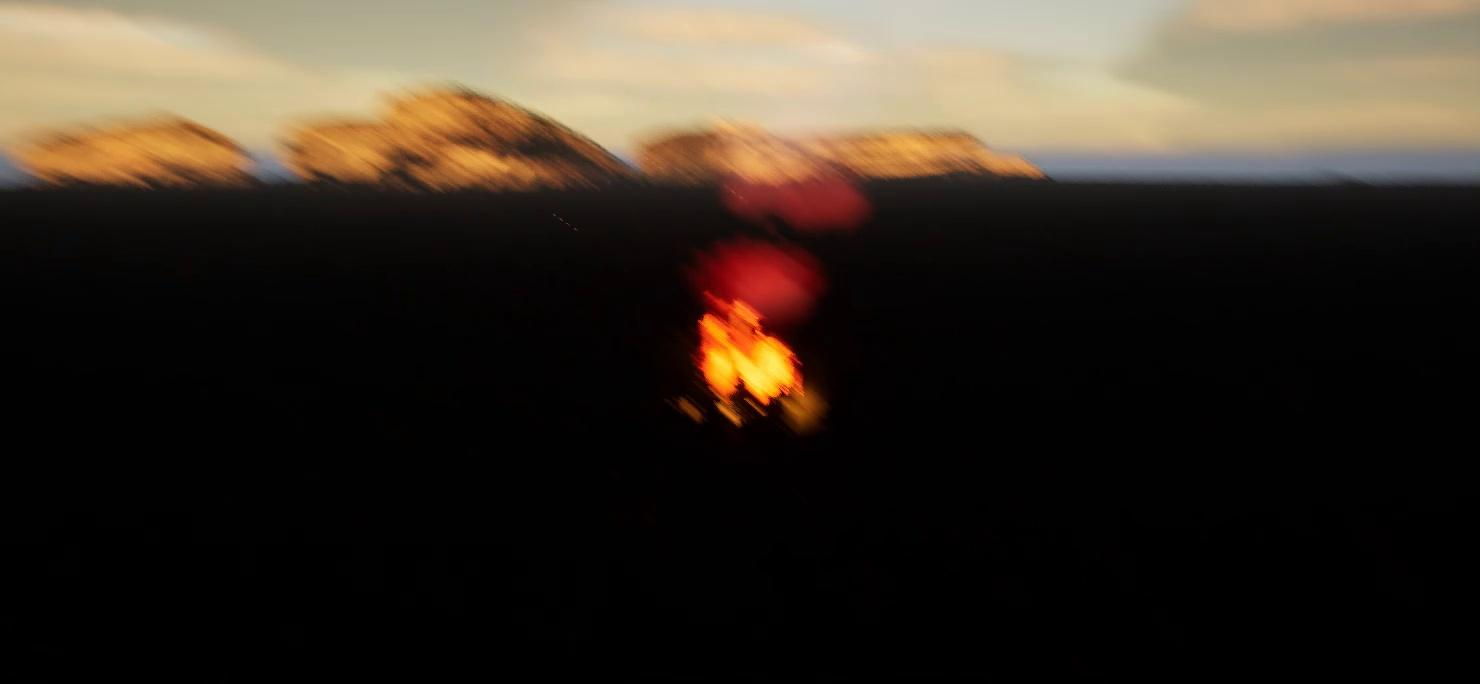fire: (695, 296, 813, 411)
smoke: (692, 168, 864, 303)
